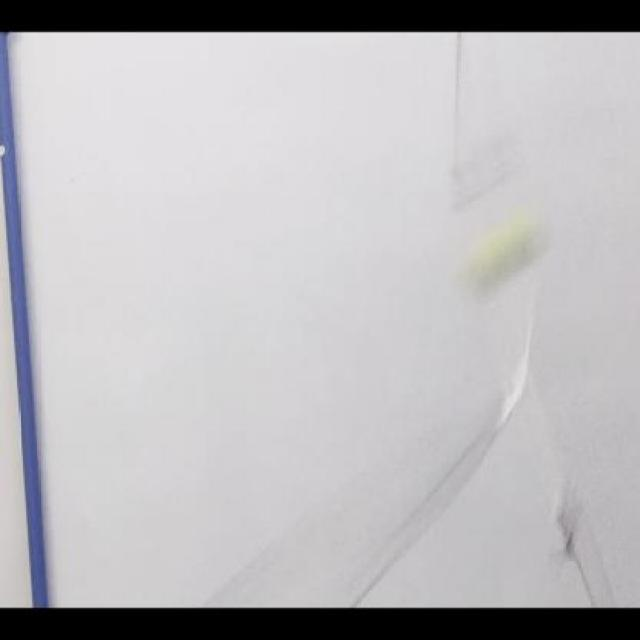baseball: (468, 215, 544, 292)
